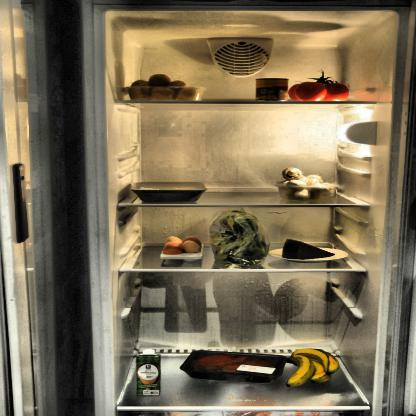banana: (286, 348, 342, 389)
beef: (187, 350, 275, 380)
cheese: (280, 240, 340, 257)
corn: (257, 79, 289, 101)
eggs: (162, 235, 204, 258)
heavy_cream: (133, 346, 161, 398)
mushrooms: (278, 166, 336, 200)
potato: (123, 73, 202, 102)
spinach: (210, 208, 266, 268)
tomato: (287, 80, 352, 102)
